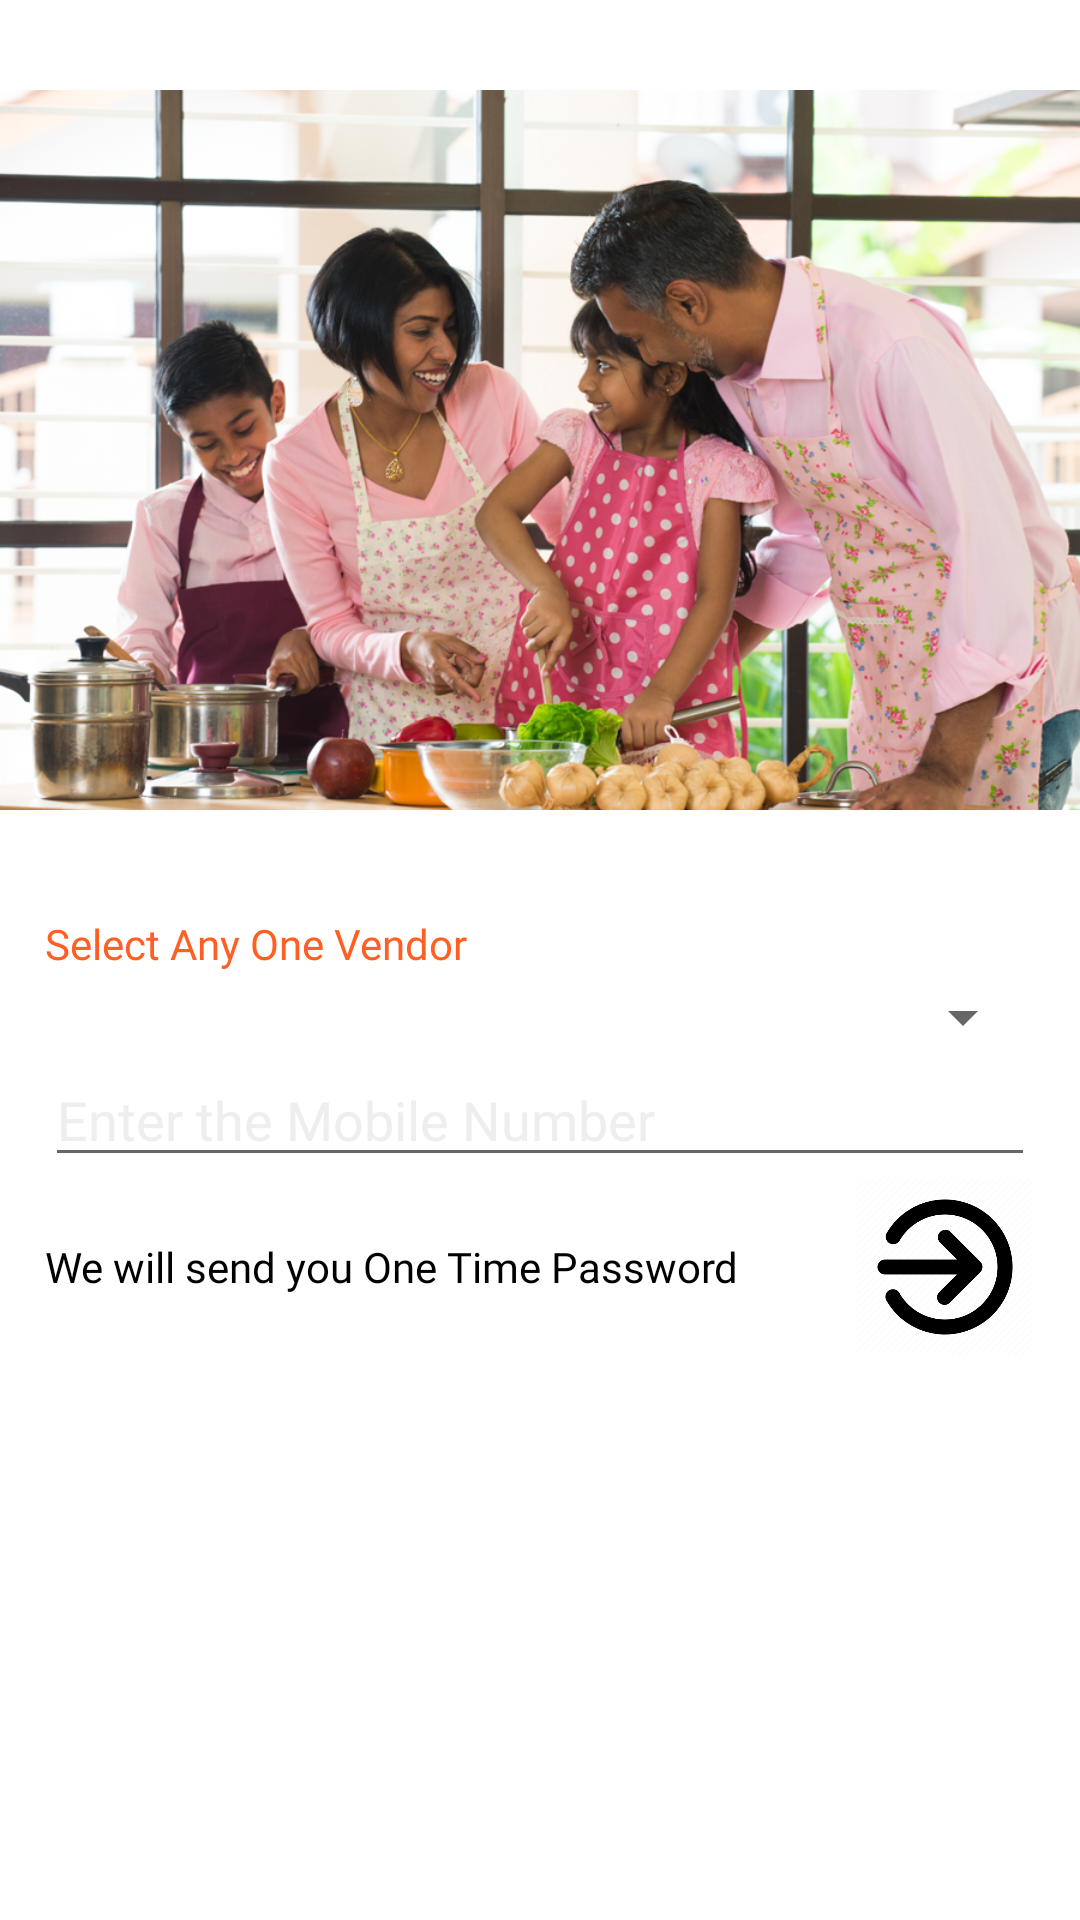

Icons on this 1080w x 1920h Android screen, each with the point to tap as point (x, y):
rightarrow: point (945, 1267)
